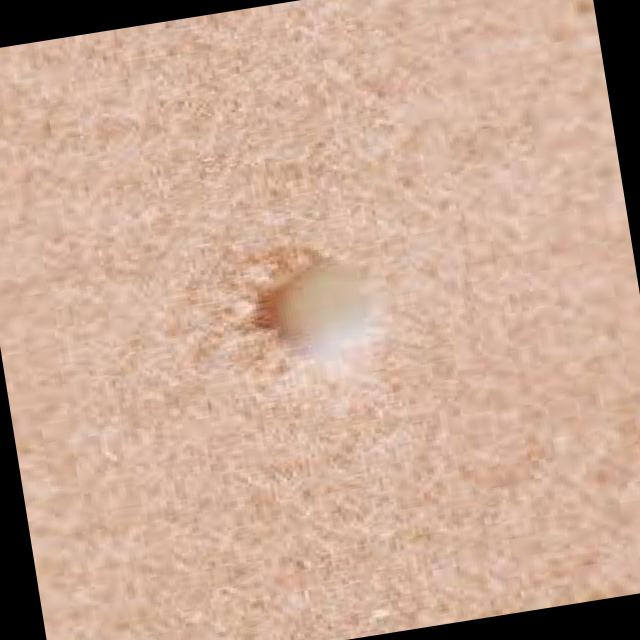hole: (227, 217, 402, 397)
